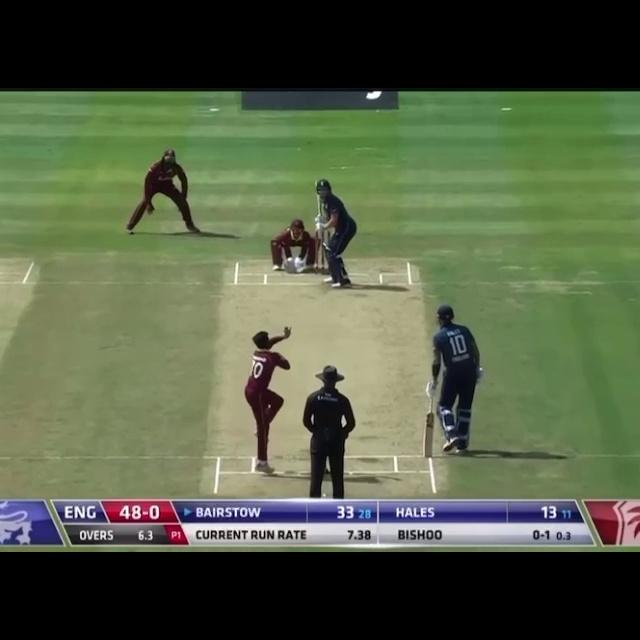umpire: (296, 362, 363, 500)
